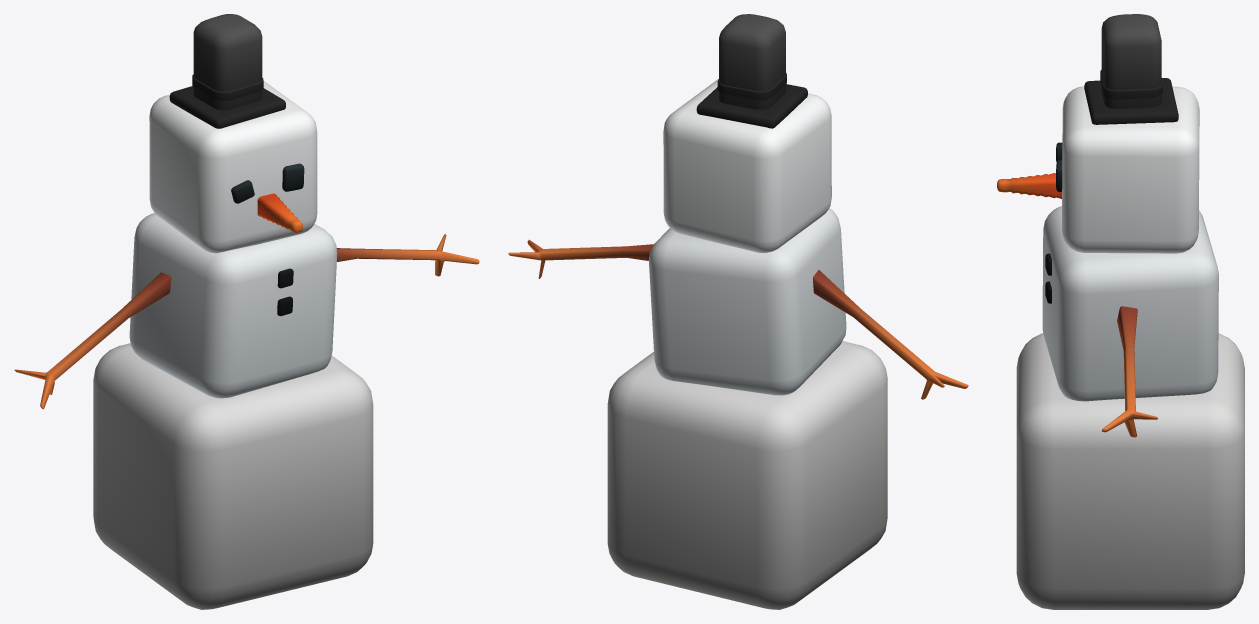
The model's file is Snowman.glb.
The picture shows the model from 3 angles, left to right: view 1: azimuth 30°, elevation 25°; view 2: azimuth 150°, elevation 25°; view 3: azimuth 270°, elevation 25°; orthographic projection.
Visible parts, largest first — view 1: Snowman; view 2: Snowman; view 3: Snowman.
Boxes of the visible parts, left/top/right/bottom form: Snowman: left=14, top=14, right=479, bottom=609; Snowman: left=508, top=14, right=968, bottom=609; Snowman: left=997, top=14, right=1244, bottom=609.
Bounding box in the file's own units: 1.49 × 1.75 × 0.7153.
1 material, 1 textured.
